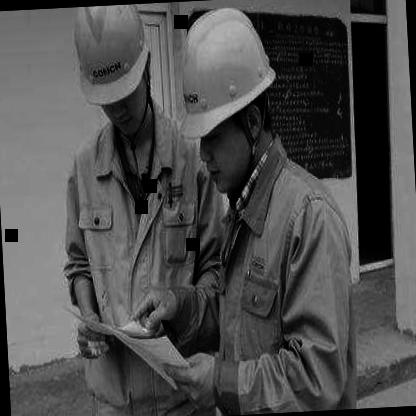helmet: (165, 0, 292, 202), (61, 2, 164, 150)
